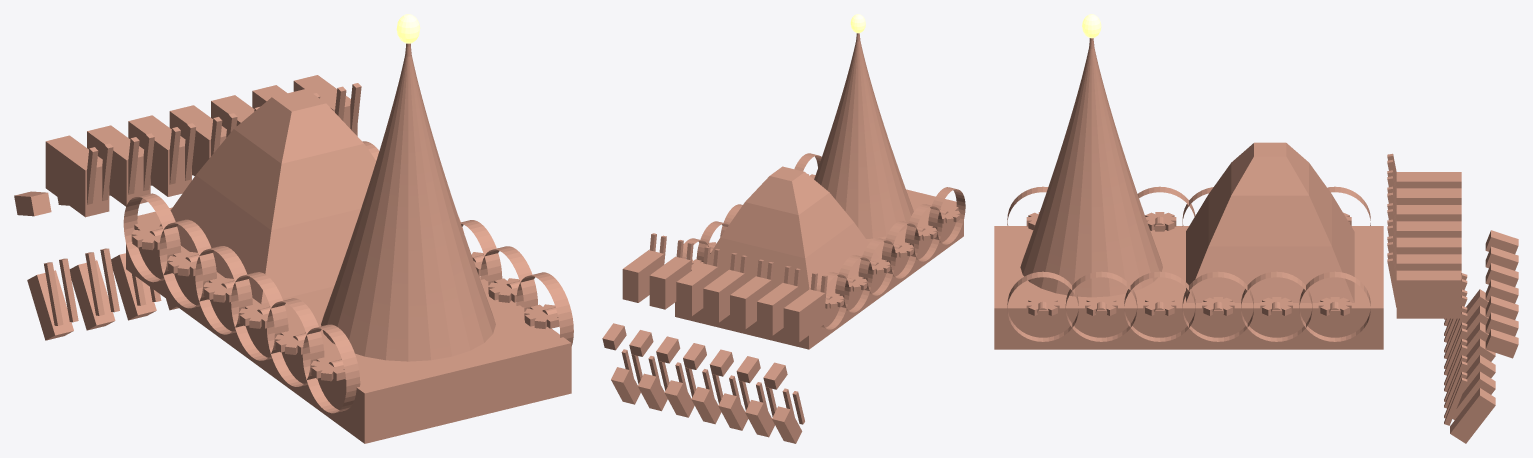
File: sun_temple.glb
3 views of the same model, side by side, from view 1: azimuth 30°, elevation 25°; view 2: azimuth 150°, elevation 25°; view 3: azimuth 270°, elevation 25° (orthographic). The views are drawn at different scales.
Parts seen in each view (by area): view 1: sun_temple; view 2: sun_temple; view 3: sun_temple.
Part boxes in pixels (bbox=[...]): sun_temple: bbox=[14, 14, 573, 443]; sun_temple: bbox=[602, 14, 965, 443]; sun_temple: bbox=[994, 14, 1518, 443].
Bounding box in the file's own units: 6.18 × 10 × 12.63.
